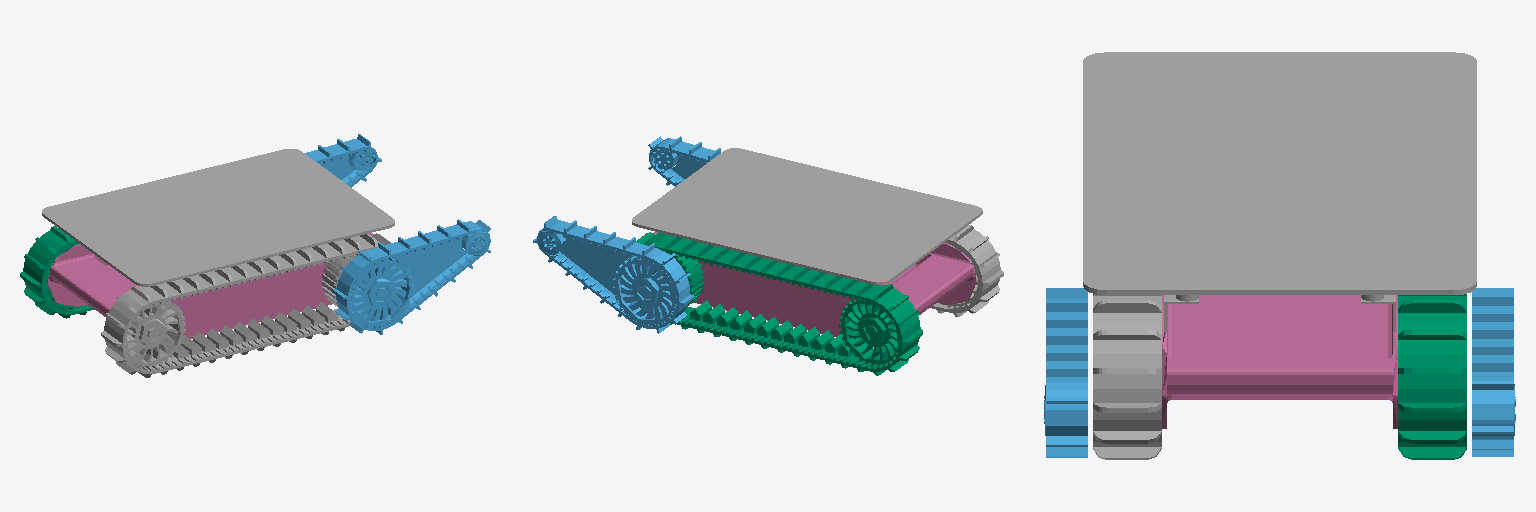
--- Render facts (derived) ---
3 views of the same robot in one strip: view 1: azimuth 30°, elevation 25°; view 2: azimuth 150°, elevation 25°; view 3: azimuth 270°, elevation 25° (orthographic).
Robot: GVR_Bot_RPLIDAR_Hector_Map_1 — 29 links, 28 joints (20 revolute, 8 fixed); root link base_link; default pose: all joints at 0.
Links seen in each view (by area): view 1: plexiglass_platform_0, gvr_bot_tread_5Z_0, gvr_bot_flipper_23Z_0, gvr_bot_body_0, gvr_bot_tread_10Z_0, gvr_bot_flipper_18Z_0; view 2: plexiglass_platform_0, gvr_bot_tread_10Z_0, gvr_bot_flipper_18Z_0, gvr_bot_body_0, gvr_bot_tread_5Z_0, gvr_bot_flipper_23Z_0; view 3: plexiglass_platform_0, gvr_bot_body_0, gvr_bot_tread_10Z_0, gvr_bot_tread_5Z_0, gvr_bot_flipper_23Z_0, gvr_bot_flipper_18Z_0.
Link boxes in pixels (x1,y1,x2,y2): plexiglass_platform_0: (42, 149, 394, 286); gvr_bot_tread_5Z_0: (101, 233, 399, 377); gvr_bot_flipper_23Z_0: (332, 219, 490, 334); gvr_bot_body_0: (47, 233, 373, 338); gvr_bot_tread_10Z_0: (20, 226, 94, 318); gvr_bot_flipper_18Z_0: (305, 134, 381, 187); plexiglass_platform_0: (632, 148, 982, 284); gvr_bot_tread_10Z_0: (636, 232, 922, 375); gvr_bot_flipper_18Z_0: (533, 216, 694, 333); gvr_bot_body_0: (653, 232, 976, 336); gvr_bot_tread_5Z_0: (930, 225, 1003, 316); gvr_bot_flipper_23Z_0: (648, 136, 720, 186); plexiglass_platform_0: (1083, 52, 1476, 332); gvr_bot_body_0: (1162, 295, 1397, 428); gvr_bot_tread_10Z_0: (1398, 294, 1466, 459); gvr_bot_tread_5Z_0: (1093, 294, 1161, 459); gvr_bot_flipper_23Z_0: (1044, 288, 1087, 457); gvr_bot_flipper_18Z_0: (1472, 288, 1515, 456).
Size in the robot's own frame: 0.8604 by 0.5081 by 0.2232 metres.
6 mesh visuals loaded from 7 distinct referenced files (6 binary STL); not drawn: 1 (reference not matched to a file when rendering).

robot.urdf — GVR_Bot_RPLIDAR_Hector_Map_1:
<?xml version="1.0" ?>
<robot name="GVR_Bot_RPLIDAR_Hector_Map_1">
  <joint name="base_link_to_gvr_bot_body_0" type="fixed">
    <parent link="base_link"/>
    <child link="gvr_bot_body_0"/>
  </joint>
  <joint name="gvr_bot_body_0_to_gvr_bot_flipper_18Z_0" type="fixed">
    <parent link="gvr_bot_body_0"/>
    <child link="gvr_bot_flipper_18Z_0"/>
    <origin rpy="1.93641940572 -4.62708953561e-14 1.57079632679" xyz="0.239 0.20706 0.0574455082287"/>
  </joint>
  <joint name="left3" type="revolute">
    <parent link="gvr_bot_flipper_18Z_0"/>
    <child link="rotational_cylinder_17Z_0"/>
    <origin rpy="-1.57079632679 0.943373860071 -1.57079632679" xyz="-1.42948459957e-16 0.0467498321858 0.0644670235538"/>
    <axis xyz="2.67239868192e-14 5.42395807345e-14 1.0"/>
    <dynamics damping="0" friction="0"/>
    <limit effort="200" lower="-2.14e9" upper="+2.14e9" velocity="100"/>
  </joint>
  <gazebo reference="left3">
    <implicitSpringDamper>True</implicitSpringDamper>
  </gazebo>
  <joint name="left2" type="revolute">
    <parent link="gvr_bot_flipper_18Z_0"/>
    <child link="rotational_cylinder_15Z_0"/>
    <origin rpy="-1.57079632679 0.943373860071 -1.57079632679" xyz="-1.83632318499e-15 0.0937159856132 0.129232349496"/>
    <axis xyz="2.1233334186e-14 5.27683647955e-14 1.0"/>
    <dynamics damping="0" friction="0"/>
    <limit effort="200" lower="-2.14e9" upper="+2.14e9" velocity="100"/>
  </joint>
  <gazebo reference="left2">
    <implicitSpringDamper>True</implicitSpringDamper>
  </gazebo>
  <joint name="left4" type="revolute">
    <parent link="gvr_bot_flipper_18Z_0"/>
    <child link="rotational_cylinder_19Z_0"/>
    <origin rpy="-1.57079632679 0.943373860071 -1.57079632679" xyz="1.56319401867e-15 1.30332441096e-15 3.83606282885e-16"/>
    <axis xyz="2.10494321936e-14 5.34546963746e-14 1.0"/>
    <dynamics damping="0" friction="0"/>
    <limit effort="200" lower="-2.14e9" upper="+2.14e9" velocity="100"/>
  </joint>
  <gazebo reference="left4">
    <implicitSpringDamper>True</implicitSpringDamper>
  </gazebo>
  <joint name="left1" type="revolute">
    <parent link="gvr_bot_flipper_18Z_0"/>
    <child link="rotational_cylinder_16Z_0"/>
    <origin rpy="-1.57079632679 0.943373860071 -1.57079632679" xyz="-3.40185110086e-15 0.13695163932 0.188853395724"/>
    <axis xyz="4.16719145039e-14 1.08266207812e-13 1.0"/>
    <dynamics damping="0" friction="0"/>
    <limit effort="200" lower="-2.14e9" upper="+2.14e9" velocity="100"/>
  </joint>
  <gazebo reference="left1">
    <implicitSpringDamper>True</implicitSpringDamper>
  </gazebo>
  <joint name="gvr_bot_body_0_to_gvr_bot_flipper_23Z_0" type="fixed">
    <parent link="gvr_bot_body_0"/>
    <child link="gvr_bot_flipper_23Z_0"/>
    <origin rpy="-0.681574472272 5.72650988307e-14 -1.57079632679" xyz="0.239 -0.20706 0.0574455082287"/>
  </joint>
  <joint name="right4" type="revolute">
    <parent link="gvr_bot_flipper_23Z_0"/>
    <child link="rotational_cylinder_22Z_0"/>
    <origin rpy="1.57079632679 0.943373860071 -1.57079632679" xyz="5.17275111633e-15 9.51947774283e-16 -9.47842953022e-16"/>
    <axis xyz="-2.28812763046e-14 5.25930858396e-14 1.0"/>
    <dynamics damping="0" friction="0"/>
    <limit effort="200" lower="-2.14e9" upper="+2.14e9" velocity="100"/>
  </joint>
  <gazebo reference="right4">
    <implicitSpringDamper>True</implicitSpringDamper>
  </gazebo>
  <joint name="right3" type="revolute">
    <parent link="gvr_bot_flipper_23Z_0"/>
    <child link="rotational_cylinder_24Z_0"/>
    <origin rpy="1.57079632679 0.943373860071 -1.57079632679" xyz="3.46428265799e-15 0.0467498321858 0.0644670235538"/>
    <axis xyz="-2.05037539727e-14 5.47013569674e-14 1.0"/>
    <dynamics damping="0" friction="0"/>
    <limit effort="200" lower="-2.14e9" upper="+2.14e9" velocity="100"/>
  </joint>
  <gazebo reference="right3">
    <implicitSpringDamper>True</implicitSpringDamper>
  </gazebo>
  <joint name="right2" type="revolute">
    <parent link="gvr_bot_flipper_23Z_0"/>
    <child link="rotational_cylinder_20Z_0"/>
    <origin rpy="1.57079632679 0.943373860071 -1.57079632679" xyz="1.78712941076e-15 0.0937159856132 0.129232349496"/>
    <axis xyz="-2.56266026212e-14 5.18574778701e-14 1.0"/>
    <dynamics damping="0" friction="0"/>
    <limit effort="200" lower="-2.14e9" upper="+2.14e9" velocity="100"/>
  </joint>
  <gazebo reference="right2">
    <implicitSpringDamper>True</implicitSpringDamper>
  </gazebo>
  <joint name="right1" type="revolute">
    <parent link="gvr_bot_flipper_23Z_0"/>
    <child link="rotational_cylinder_21Z_0"/>
    <origin rpy="1.57079632679 0.943373860071 -1.57079632679" xyz="2.09154302387e-16 0.13695163932 0.188853395724"/>
    <axis xyz="-3.96031540416e-14 1.04018677886e-13 1.0"/>
    <dynamics damping="0" friction="0"/>
    <limit effort="200" lower="-2.14e9" upper="+2.14e9" velocity="100"/>
  </joint>
  <gazebo reference="right1">
    <implicitSpringDamper>True</implicitSpringDamper>
  </gazebo>
  <joint name="gvr_bot_body_0_to_gvr_bot_tread_5Z_0" type="fixed">
    <parent link="gvr_bot_body_0"/>
    <child link="gvr_bot_tread_5Z_0"/>
    <origin rpy="1.57079632679 -0.0 -1.57079632679" xyz="-0.01 -0.12706 0.0625"/>
  </joint>
  <joint name="right10" type="revolute">
    <parent link="gvr_bot_tread_5Z_0"/>
    <child link="rotational_cylinder_2Z_0"/>
    <origin rpy="-1.22464679915e-16 -1.57079632679 0.0" xyz="-1.42108547152e-17 -0.005 0.249998846352"/>
    <axis xyz="6.12323399574e-17 -1.22464679915e-16 1.0"/>
    <dynamics damping="0" friction="0"/>
    <limit effort="200" lower="-2.14e9" upper="+2.14e9" velocity="100"/>
  </joint>
  <gazebo reference="right10">
    <implicitSpringDamper>True</implicitSpringDamper>
  </gazebo>
  <joint name="right6" type="revolute">
    <parent link="gvr_bot_tread_5Z_0"/>
    <child link="rotational_cylinder_4Z_0"/>
    <origin rpy="-3.14159265359 1.57079632679 0.0" xyz="-1.42108547152e-17 -0.005 -0.1"/>
    <axis xyz="-6.12323399574e-17 1.22464679915e-16 1.0"/>
    <dynamics damping="0" friction="0"/>
    <limit effort="200" lower="-2.14e9" upper="+2.14e9" velocity="100"/>
  </joint>
  <gazebo reference="right6">
    <implicitSpringDamper>True</implicitSpringDamper>
  </gazebo>
  <joint name="right8" type="revolute">
    <parent link="gvr_bot_tread_5Z_0"/>
    <child link="rotational_cylinder_7Z_0"/>
    <origin rpy="-3.14159265359 1.57079632679 0.0" xyz="-1.42108547152e-17 -0.01 8.70163887006e-34"/>
    <axis xyz="-6.12323399574e-17 1.22464679915e-16 1.0"/>
    <dynamics damping="0" friction="0"/>
    <limit effort="200" lower="-2.14e9" upper="+2.14e9" velocity="100"/>
  </joint>
  <gazebo reference="right8">
    <implicitSpringDamper>True</implicitSpringDamper>
  </gazebo>
  <joint name="right7" type="revolute">
    <parent link="gvr_bot_tread_5Z_0"/>
    <child link="rotational_cylinder_3Z_0"/>
    <origin rpy="-3.14159265359 1.57079632679 0.0" xyz="-1.42108547152e-17 0.0 8.70163887006e-34"/>
    <axis xyz="-6.12323399574e-17 1.22464679915e-16 1.0"/>
    <dynamics damping="0" friction="0"/>
    <limit effort="200" lower="-2.14e9" upper="+2.14e9" velocity="100"/>
  </joint>
  <gazebo reference="right7">
    <implicitSpringDamper>True</implicitSpringDamper>
  </gazebo>
  <joint name="right5" type="revolute">
    <parent link="gvr_bot_tread_5Z_0"/>
    <child link="rotational_cylinder_1Z_0"/>
    <origin rpy="-1.22464679915e-16 -1.57079632679 0.0" xyz="-1.42108547152e-17 -0.005 -0.250000787001"/>
    <axis xyz="6.12323399574e-17 -1.22464679915e-16 1.0"/>
    <dynamics damping="0" friction="0"/>
    <limit effort="200" lower="-2.14e9" upper="+2.14e9" velocity="100"/>
  </joint>
  <gazebo reference="right5">
    <implicitSpringDamper>True</implicitSpringDamper>
  </gazebo>
  <joint name="right9" type="revolute">
    <parent link="gvr_bot_tread_5Z_0"/>
    <child link="rotational_cylinder_6Z_0"/>
    <origin rpy="-3.14159265359 1.57079632679 0.0" xyz="-1.42108547152e-17 -0.005 0.1"/>
    <axis xyz="-6.12323399574e-17 1.22464679915e-16 1.0"/>
    <dynamics damping="0" friction="0"/>
    <limit effort="200" lower="-2.14e9" upper="+2.14e9" velocity="100"/>
  </joint>
  <gazebo reference="right9">
    <implicitSpringDamper>True</implicitSpringDamper>
  </gazebo>
  <joint name="gvr_bot_body_0_to_gvr_bot_tread_10Z_0" type="fixed">
    <parent link="gvr_bot_body_0"/>
    <child link="gvr_bot_tread_10Z_0"/>
    <origin rpy="1.57079632679 -0.0 1.57079632679" xyz="-0.01 0.12706 0.0625"/>
  </joint>
  <joint name="left5" type="revolute">
    <parent link="gvr_bot_tread_10Z_0"/>
    <child link="rotational_cylinder_14Z_0"/>
    <origin rpy="-3.14159265359 -1.57079632679 0.0" xyz="-1.42108547152e-17 -0.005 0.249998846352"/>
    <axis xyz="-6.12323399574e-17 -3.74939945665e-33 1.0"/>
    <dynamics damping="0" friction="0"/>
    <limit effort="200" lower="-2.14e9" upper="+2.14e9" velocity="100"/>
  </joint>
  <gazebo reference="left5">
    <implicitSpringDamper>True</implicitSpringDamper>
  </gazebo>
  <joint name="left10" type="revolute">
    <parent link="gvr_bot_tread_10Z_0"/>
    <child link="rotational_cylinder_12Z_0"/>
    <origin rpy="-3.14159265359 -1.57079632679 0.0" xyz="-1.42108547152e-17 -0.005 -0.250000787001"/>
    <axis xyz="-6.12323399574e-17 -3.74939945665e-33 1.0"/>
    <dynamics damping="0" friction="0"/>
    <limit effort="200" lower="-2.14e9" upper="+2.14e9" velocity="100"/>
  </joint>
  <gazebo reference="left10">
    <implicitSpringDamper>True</implicitSpringDamper>
  </gazebo>
  <joint name="left6" type="revolute">
    <parent link="gvr_bot_tread_10Z_0"/>
    <child link="rotational_cylinder_8Z_0"/>
    <origin rpy="-3.14159265359 -1.57079632679 0.0" xyz="-1.42108547152e-17 -0.005 0.1"/>
    <axis xyz="-6.12323399574e-17 -3.74939945665e-33 1.0"/>
    <dynamics damping="0" friction="0"/>
    <limit effort="200" lower="-2.14e9" upper="+2.14e9" velocity="100"/>
  </joint>
  <gazebo reference="left6">
    <implicitSpringDamper>True</implicitSpringDamper>
  </gazebo>
  <joint name="left7" type="revolute">
    <parent link="gvr_bot_tread_10Z_0"/>
    <child link="rotational_cylinder_9Z_0"/>
    <origin rpy="-3.14159265359 -1.57079632679 0.0" xyz="-1.42108547152e-17 -0.01 8.70163887006e-34"/>
    <axis xyz="-6.12323399574e-17 -3.74939945665e-33 1.0"/>
    <dynamics damping="0" friction="0"/>
    <limit effort="200" lower="-2.14e9" upper="+2.14e9" velocity="100"/>
  </joint>
  <gazebo reference="left7">
    <implicitSpringDamper>True</implicitSpringDamper>
  </gazebo>
  <joint name="left8" type="revolute">
    <parent link="gvr_bot_tread_10Z_0"/>
    <child link="rotational_cylinder_11Z_0"/>
    <origin rpy="-3.14159265359 -1.57079632679 0.0" xyz="-1.42108547152e-17 0.0 8.70163887006e-34"/>
    <axis xyz="-6.12323399574e-17 -3.74939945665e-33 1.0"/>
    <dynamics damping="0" friction="0"/>
    <limit effort="200" lower="-2.14e9" upper="+2.14e9" velocity="100"/>
  </joint>
  <gazebo reference="left8">
    <implicitSpringDamper>True</implicitSpringDamper>
  </gazebo>
  <joint name="left9" type="revolute">
    <parent link="gvr_bot_tread_10Z_0"/>
    <child link="rotational_cylinder_13Z_0"/>
    <origin rpy="-3.14159265359 -1.57079632679 0.0" xyz="-1.42108547152e-17 -0.005 -0.1"/>
    <axis xyz="-6.12323399574e-17 -3.74939945665e-33 1.0"/>
    <dynamics damping="0" friction="0"/>
    <limit effort="200" lower="-2.14e9" upper="+2.14e9" velocity="100"/>
  </joint>
  <gazebo reference="left9">
    <implicitSpringDamper>True</implicitSpringDamper>
  </gazebo>
  <joint name="gvr_bot_body_0_to_plexiglass_platform_0" type="fixed">
    <parent link="gvr_bot_body_0"/>
    <child link="plexiglass_platform_0"/>
    <origin rpy="0.0 -6.12323399574e-17 0.0" xyz="1e-23 1e-23 0.12"/>
  </joint>
  <joint name="plexiglass_platform_0_to_rplidar_a2_0" type="fixed">
    <parent link="plexiglass_platform_0"/>
    <child link="rplidar_a2_0"/>
    <origin rpy="6.12323399574e-17 -0.0 1.57079632679" xyz="0.26 -2.6645452591e-18 0.066"/>
  </joint>
  <link name="base_link">
    <CyPhy2CAD>
      <CADAssembly_metrics>
        <RotationMatrix>
          <Row>
            <Column Value="1.0"/>
            <Column Value="0.0"/>
            <Column Value="0.0"/>
          </Row>
          <Row>
            <Column Value="0.0"/>
            <Column Value="1.0"/>
            <Column Value="0.0"/>
          </Row>
          <Row>
            <Column Value="0.0"/>
            <Column Value="0.0"/>
            <Column Value="1.0"/>
          </Row>
        </RotationMatrix>
        <Translation X="1e-20" Y="1e-20" Z="1e-20"/>
      </CADAssembly_metrics>
    </CyPhy2CAD>
  </link>
  <link name="gvr_bot_flipper_23Z_0">
    <visual>
      <origin rpy="0 0 0" xyz="0.0237972102461 -0.00201595867467 -0.000117379872234"/>
      <geometry>
        <mesh filename="package://gvr_bot_rplidar_hector_map_generated_urdf_2019_5_10t16_55_19/meshes/gvr_bot_flipper_23z_prt.stl" scale="0.001 0.001 0.001"/>
      </geometry>
    </visual>
    <collision>
      <origin rpy="0 0 0" xyz="0.0237972102461 -0.00201595867467 -0.000117379872234"/>
      <geometry>
        <box size="0.01 0.01 0.01"/>
      </geometry>
    </collision>
    <inertial>
      <origin rpy="0 0 0" xyz="0.0234187179527 0.0315726270595 0.0435260789695"/>
      <mass value="0.001"/>
      <inertia ixx="1.66e-8" ixy="0" ixz="0" iyy="1.66e-8" iyz="0" izz="1.66e-8"/>
    </inertial>
  </link>
  <gazebo reference="gvr_bot_flipper_23Z_0">
    <selfCollide>true</selfCollide>
    <material>Gazebo/Black</material>
    <mu1>0.1</mu1>
    <mu2>0.1</mu2>
    <kp>1000000</kp>
    <kd>1</kd>
    <minDepth>0.001</minDepth>
    <maxVel>100</maxVel>
  </gazebo>
  <link name="gvr_bot_tread_10Z_0">
    <visual>
      <origin rpy="0 0 0" xyz="-1.42108547152e-17 0.0 0.00687141668333"/>
      <geometry>
        <mesh filename="package://gvr_bot_rplidar_hector_map_generated_urdf_2019_5_10t16_55_19/meshes/gvr_bot_tread_10z_prt.stl" scale="0.001 0.001 0.001"/>
      </geometry>
    </visual>
    <collision>
      <origin rpy="0 0 0" xyz="-1.42108547152e-17 0.0 0.00687141668333"/>
      <geometry>
        <box size="0.01 0.01 0.01"/>
      </geometry>
    </collision>
    <inertial>
      <origin rpy="0 0 0" xyz="0.0343748145549 -0.0143580795047 -0.000521482183074"/>
      <mass value="0.001"/>
      <inertia ixx="1.66e-8" ixy="0" ixz="0" iyy="1.66e-8" iyz="0" izz="1.66e-8"/>
    </inertial>
  </link>
  <gazebo reference="gvr_bot_tread_10Z_0">
    <selfCollide>true</selfCollide>
    <material>Gazebo/Black</material>
    <mu1>0.1</mu1>
    <mu2>0.1</mu2>
    <kp>1000000</kp>
    <kd>1</kd>
    <minDepth>0.001</minDepth>
    <maxVel>100</maxVel>
  </gazebo>
  <link name="rotational_cylinder_4Z_0">
    <collision>
      <origin rpy="0 0 0" xyz="0.0 0.0 -0.04125"/>
      <geometry>
        <cylinder length="0.0825" radius="0.085"/>
      </geometry>
    </collision>
    <inertial>
      <origin rpy="0 0 0" xyz="0.0 0.0 -0.04125"/>
      <mass value="0.09999606949569155"/>
      <inertia ixx="0.00023733442692" ixy="0.0" ixz="0.0" iyy="0.000237334415467" iyz="0.0" izz="0.000361235801053"/>
    </inertial>
  </link>
  <gazebo reference="rotational_cylinder_4Z_0">
    <selfCollide>False</selfCollide>
    <material>Gazebo/Grey</material>
    <mu1>10</mu1>
    <mu2>10</mu2>
    <kp>1e+08</kp>
    <kd>1</kd>
    <minDepth>0.001</minDepth>
    <maxVel>1</maxVel>
  </gazebo>
  <link name="rplidar_a2_0">
    <visual>
      <origin rpy="0 0 0" xyz="4.4408920985e-18 0.0 0.0"/>
      <geometry>
        <mesh filename="package://gvr_bot_rplidar_hector_map_generated_urdf_2019_5_10t16_55_19/meshes/rplidar_a2_asm.stl" scale="0.001 0.001 0.001"/>
      </geometry>
    </visual>
    <collision>
      <origin rpy="0 0 0" xyz="4.4408920985e-18 0.0 0.0"/>
      <geometry>
        <mesh filename="package://gvr_bot_rplidar_hector_map_generated_urdf_2019_5_10t16_55_19/meshes/rplidar_a2_asm.stl" scale="0.001 0.001 0.001"/>
      </geometry>
    </collision>
    <inertial>
      <origin rpy="0 0 0" xyz="-0.000130340672722 -0.00136533102019 0.0205166626404"/>
      <mass value="0.18821621589950202"/>
      <inertia ixx="8.13361235458e-05" ixy="-2.24566593777e-07" ixz="7.5260897031e-09" iyy="7.83925013627e-05" iyz="2.44355055998e-06" izz="0.000134676697915"/>
    </inertial>
  </link>
  <gazebo reference="rplidar_a2_0">
    <selfCollide>True</selfCollide>
    <material>Gazebo/Black</material>
    <mu1>0.05</mu1>
    <mu2>0.05</mu2>
    <kp>10000000</kp>
    <kd>1</kd>
    <minDepth>0.0005</minDepth>
    <maxVel>100</maxVel>
  </gazebo>
  <link name="rotational_cylinder_1Z_0">
    <collision>
      <origin rpy="0 0 0" xyz="-8.70163887006e-34 1.74032777401e-33 -0.04125"/>
      <geometry>
        <cylinder length="0.0825" radius="0.085"/>
      </geometry>
    </collision>
    <inertial>
      <origin rpy="0 0 0" xyz="-8.70163887006e-34 1.74032777401e-33 -0.04125"/>
      <mass value="0.09999606949569155"/>
      <inertia ixx="0.00023733442692" ixy="0.0" ixz="0.0" iyy="0.000237334415467" iyz="0.0" izz="0.000361235801053"/>
    </inertial>
  </link>
  <gazebo reference="rotational_cylinder_1Z_0">
    <selfCollide>False</selfCollide>
    <material>Gazebo/Grey</material>
    <mu1>10</mu1>
    <mu2>10</mu2>
    <kp>1e+08</kp>
    <kd>1</kd>
    <minDepth>0.001</minDepth>
    <maxVel>1</maxVel>
  </gazebo>
  <link name="rotational_cylinder_6Z_0">
    <collision>
      <origin rpy="0 0 0" xyz="0.0 0.0 -0.04125"/>
      <geometry>
        <cylinder length="0.0825" radius="0.085"/>
      </geometry>
    </collision>
    <inertial>
      <origin rpy="0 0 0" xyz="0.0 0.0 -0.04125"/>
      <mass value="0.09999606949569155"/>
      <inertia ixx="0.00023733442692" ixy="0.0" ixz="0.0" iyy="0.000237334415467" iyz="0.0" izz="0.000361235801053"/>
    </inertial>
  </link>
  <gazebo reference="rotational_cylinder_6Z_0">
    <selfCollide>False</selfCollide>
    <material>Gazebo/Grey</material>
    <mu1>10</mu1>
    <mu2>10</mu2>
    <kp>1e+08</kp>
    <kd>1</kd>
    <minDepth>0.001</minDepth>
    <maxVel>1</maxVel>
  </gazebo>
  <link name="gvr_bot_tread_5Z_0">
    <visual>
      <origin rpy="0 0 0" xyz="-1.42108547152e-17 0.0 0.00687141668333"/>
      <geometry>
        <mesh filename="package://gvr_bot_rplidar_hector_map_generated_urdf_2019_5_10t16_55_19/meshes/gvr_bot_tread_5z_prt.stl" scale="0.001 0.001 0.001"/>
      </geometry>
    </visual>
    <collision>
      <origin rpy="0 0 0" xyz="-1.42108547152e-17 0.0 0.00687141668333"/>
      <geometry>
        <box size="0.01 0.01 0.01"/>
      </geometry>
    </collision>
    <inertial>
      <origin rpy="0 0 0" xyz="0.0343748145549 -0.0143580795047 -0.000521482183074"/>
      <mass value="0.001"/>
      <inertia ixx="1.66e-8" ixy="0" ixz="0" iyy="1.66e-8" iyz="0" izz="1.66e-8"/>
    </inertial>
  </link>
  <gazebo reference="gvr_bot_tread_5Z_0">
    <selfCollide>true</selfCollide>
    <material>Gazebo/Black</material>
    <mu1>0.1</mu1>
    <mu2>0.1</mu2>
    <kp>1000000</kp>
    <kd>1</kd>
    <minDepth>0.001</minDepth>
    <maxVel>100</maxVel>
  </gazebo>
  <link name="rotational_cylinder_20Z_0">
    <collision>
      <origin rpy="0 0 0" xyz="5.20207006246e-17 -6.33396108434e-16 -0.025"/>
      <geometry>
        <cylinder length="0.05" radius="0.05"/>
      </geometry>
    </collision>
    <inertial>
      <origin rpy="0 0 0" xyz="5.20207006246e-17 -6.33396108434e-16 -0.025"/>
      <mass value="0.020970130962711872"/>
      <inertia ixx="1.74751095511e-05" ixy="0.0" ixz="0.0" iyy="1.74751087201e-05" iyz="0.0" izz="2.62126637034e-05"/>
    </inertial>
  </link>
  <gazebo reference="rotational_cylinder_20Z_0">
    <selfCollide>False</selfCollide>
    <material>Gazebo/Grey</material>
    <mu1>10</mu1>
    <mu2>10</mu2>
    <kp>1e+08</kp>
    <kd>1</kd>
    <minDepth>0.001</minDepth>
    <maxVel>1</maxVel>
  </gazebo>
  <link name="gvr_bot_flipper_18Z_0">
    <visual>
      <origin rpy="0 0 0" xyz="0.0237972102461 -0.00201595867467 -0.000117379872232"/>
      <geometry>
        <mesh filename="package://gvr_bot_rplidar_hector_map_generated_urdf_2019_5_10t16_55_19/meshes/gvr_bot_flipper_18z_prt.stl" scale="0.001 0.001 0.001"/>
      </geometry>
    </visual>
    <collision>
      <origin rpy="0 0 0" xyz="0.0237972102461 -0.00201595867467 -0.000117379872232"/>
      <geometry>
        <box size="0.01 0.01 0.01"/>
      </geometry>
    </collision>
    <inertial>
      <origin rpy="0 0 0" xyz="0.0234187179527 0.0315726270595 0.0435260789695"/>
      <mass value="0.001"/>
      <inertia ixx="1.66e-8" ixy="0" ixz="0" iyy="1.66e-8" iyz="0" izz="1.66e-8"/>
    </inertial>
  </link>
  <gazebo reference="gvr_bot_flipper_18Z_0">
    <selfCollide>true</selfCollide>
    <material>Gazebo/Black</material>
    <mu1>0.1</mu1>
    <mu2>0.1</mu2>
    <kp>1000000</kp>
    <kd>1</kd>
    <minDepth>0.001</minDepth>
    <maxVel>100</maxVel>
  </gazebo>
  <link name="rotational_cylinder_13Z_0">
    <collision>
      <origin rpy="0 0 0" xyz="0.0 0.0 0.04125"/>
      <geometry>
        <cylinder length="0.0825" radius="0.085"/>
      </geometry>
    </collision>
    <inertial>
      <origin rpy="0 0 0" xyz="0.0 0.0 0.04125"/>
      <mass value="0.09999606949569155"/>
      <inertia ixx="0.00023733442692" ixy="0.0" ixz="0.0" iyy="0.000237334415467" iyz="0.0" izz="0.000361235801053"/>
    </inertial>
  </link>
  <gazebo reference="rotational_cylinder_13Z_0">
    <selfCollide>False</selfCollide>
    <material>Gazebo/Grey</material>
    <mu1>10</mu1>
    <mu2>10</mu2>
    <kp>1e+08</kp>
    <kd>1</kd>
    <minDepth>0.001</minDepth>
    <maxVel>1</maxVel>
  </gazebo>
  <link name="rotational_cylinder_14Z_0">
    <collision>
      <origin rpy="0 0 0" xyz="8.70163887006e-34 5.32821709478e-50 0.04125"/>
      <geometry>
        <cylinder length="0.0825" radius="0.085"/>
      </geometry>
    </collision>
    <inertial>
      <origin rpy="0 0 0" xyz="8.70163887006e-34 5.32821709478e-50 0.04125"/>
      <mass value="0.09999606949569155"/>
      <inertia ixx="0.00023733442692" ixy="0.0" ixz="0.0" iyy="0.000237334415467" iyz="0.0" izz="0.000361235801053"/>
    </inertial>
  </link>
  <gazebo reference="rotational_cylinder_14Z_0">
    <selfCollide>False</selfCollide>
    <material>Gazebo/Grey</material>
    <mu1>10</mu1>
    <mu2>10</mu2>
    <kp>1e+08</kp>
    <kd>1</kd>
    <minDepth>0.001</minDepth>
    <maxVel>1</maxVel>
  </gazebo>
  <link name="rotational_cylinder_2Z_0">
    <collision>
      <origin rpy="0 0 0" xyz="8.70163887006e-34 -1.74032777401e-33 -0.04125"/>
      <geometry>
        <cylinder length="0.0825" radius="0.085"/>
      </geometry>
    </collision>
    <inertial>
      <origin rpy="0 0 0" xyz="8.70163887006e-34 -1.74032777401e-33 -0.04125"/>
      <mass value="0.09999606949569155"/>
      <inertia ixx="0.00023733442692" ixy="0.0" ixz="0.0" iyy="0.000237334415467" iyz="0.0" izz="0.000361235801053"/>
    </inertial>
  </link>
  <gazebo reference="rotational_cylinder_2Z_0">
    <selfCollide>False</selfCollide>
    <material>Gazebo/Grey</material>
    <mu1>10</mu1>
    <mu2>10</mu2>
    <kp>1e+08</kp>
    <kd>1</kd>
    <minDepth>0.001</minDepth>
    <maxVel>1</maxVel>
  </gazebo>
  <link name="rotational_cylinder_9Z_0">
    <collision>
      <origin rpy="0 0 0" xyz="0.0 0.0 0.04125"/>
      <geometry>
        <cylinder length="0.0825" radius="0.085"/>
      </geometry>
    </collision>
    <inertial>
      <origin rpy="0 0 0" xyz="0.0 0.0 0.04125"/>
      <mass value="0.09999606949569155"/>
      <inertia ixx="0.00023733442692" ixy="0.0" ixz="0.0" iyy="0.000237334415467" iyz="0.0" izz="0.000361235801053"/>
    </inertial>
  </link>
  <gazebo reference="rotational_cylinder_9Z_0">
    <selfCollide>False</selfCollide>
    <material>Gazebo/Grey</material>
    <mu1>10</mu1>
    <mu2>10</mu2>
    <kp>1e+08</kp>
    <kd>1</kd>
    <minDepth>0.001</minDepth>
    <maxVel>1</maxVel>
  </gazebo>
  <link name="gvr_bot_body_0">
    <visual>
      <origin rpy="0 0 0" xyz="1e-23 1e-23 1e-23"/>
      <geometry>
        <mesh filename="package://gvr_bot_rplidar_hector_map_generated_urdf_2019_5_10t16_55_19/meshes/gvr_bot_body_prt.stl" scale="0.001 0.001 0.001"/>
      </geometry>
    </visual>
    <collision>
      <origin rpy="0 0 0" xyz="1e-23 1e-23 1e-23"/>
      <geometry>
        <mesh filename="package://gvr_bot_rplidar_hector_map_generated_urdf_2019_5_10t16_55_19/meshes/gvr_bot_body_prt.stl" scale="0.001 0.001 0.001"/>
      </geometry>
    </collision>
    <inertial>
      <origin rpy="0 0 0" xyz="0.0162648644683 1e-23 0.0508416849457"/>
      <mass value="25.048697501394287"/>
      <inertia ixx="0.162838436291" ixy="0.0" ixz="-0.0134083347617" iyy="0.743638566943" iyz="0.0" izz="0.865993591962"/>
    </inertial>
  </link>
  <gazebo reference="gvr_bot_body_0">
    <selfCollide>True</selfCollide>
    <material>Gazebo/Grey</material>
    <mu1>0.05</mu1>
    <mu2>0.05</mu2>
    <kp>10000000</kp>
    <kd>1</kd>
    <minDepth>0.0005</minDepth>
    <maxVel>100</maxVel>
  </gazebo>
  <link name="plexiglass_platform_0">
    <visual>
      <origin rpy="0 0 0" xyz="-0.0974742239804 0.00581091197438 0.0375579898642"/>
      <geometry>
        <mesh filename="package://gvr_bot_rplidar_hector_map_generated_urdf_2019_5_10t16_55_19/meshes/plexiglass_platform_prt.stl" scale="0.001 0.001 0.001"/>
      </geometry>
    </visual>
    <collision>
      <origin rpy="0 0 0" xyz="-0.0974742239804 0.00581091197438 0.0375579898642"/>
      <geometry>
        <mesh filename="package://gvr_bot_rplidar_hector_map_generated_urdf_2019_5_10t16_55_19/meshes/plexiglass_platform_prt.stl" scale="0.001 0.001 0.001"/>
      </geometry>
    </collision>
    <inertial>
      <origin rpy="0 0 0" xyz="0.00312874244791 4.23675569412e-06 0.0579997476994"/>
      <mass value="2.6640368579972415"/>
      <inertia ixx="0.0396059563947" ixy="0.0" ixz="0.00022940388755" iyy="0.0805502430789" iyz="0.0" izz="0.119329632902"/>
    </inertial>
  </link>
  <gazebo reference="plexiglass_platform_0">
    <selfCollide>True</selfCollide>
    <material>Gazebo/GreyTransparent</material>
    <mu1>0.05</mu1>
    <mu2>0.05</mu2>
    <kp>10000000</kp>
    <kd>1</kd>
    <minDepth>0</minDepth>
    <maxVel>100</maxVel>
  </gazebo>
  <link name="rotational_cylinder_12Z_0">
    <collision>
      <origin rpy="0 0 0" xyz="-8.70163887006e-34 -5.32821709478e-50 0.04125"/>
      <geometry>
        <cylinder length="0.0825" radius="0.085"/>
      </geometry>
    </collision>
    <inertial>
      <origin rpy="0 0 0" xyz="-8.70163887006e-34 -5.32821709478e-50 0.04125"/>
      <mass value="0.09999606949569155"/>
      <inertia ixx="0.00023733442692" ixy="0.0" ixz="0.0" iyy="0.000237334415467" iyz="0.0" izz="0.000361235801053"/>
    </inertial>
  </link>
  <gazebo reference="rotational_cylinder_12Z_0">
    <selfCollide>False</selfCollide>
    <material>Gazebo/Grey</material>
    <mu1>10</mu1>
    <mu2>10</mu2>
    <kp>1e+08</kp>
    <kd>1</kd>
    <minDepth>0.001</minDepth>
    <maxVel>1</maxVel>
  </gazebo>
  <link name="rotational_cylinder_8Z_0">
    <collision>
      <origin rpy="0 0 0" xyz="0.0 0.0 0.04125"/>
      <geometry>
        <cylinder length="0.0825" radius="0.085"/>
      </geometry>
    </collision>
    <inertial>
      <origin rpy="0 0 0" xyz="0.0 0.0 0.04125"/>
      <mass value="0.09999606949569155"/>
      <inertia ixx="0.00023733442692" ixy="0.0" ixz="0.0" iyy="0.000237334415467" iyz="0.0" izz="0.000361235801053"/>
    </inertial>
  </link>
  <gazebo reference="rotational_cylinder_8Z_0">
    <selfCollide>False</selfCollide>
    <material>Gazebo/Grey</material>
    <mu1>10</mu1>
    <mu2>10</mu2>
    <kp>1e+08</kp>
    <kd>1</kd>
    <minDepth>0.001</minDepth>
    <maxVel>1</maxVel>
  </gazebo>
  <link name="rotational_cylinder_16Z_0">
    <collision>
      <origin rpy="0 0 0" xyz="-4.87161526035e-16 1.5434930097e-14 0.025"/>
      <geometry>
        <cylinder length="0.05" radius="0.035"/>
      </geometry>
    </collision>
    <inertial>
      <origin rpy="0 0 0" xyz="-4.87161526035e-16 1.5434930097e-14 0.025"/>
      <mass value="0.010275364171728817"/>
      <inertia ixx="5.28752782089e-06" ixy="0.0" ixz="0.0" iyy="5.28753447251e-06" iyz="0.0" izz="6.29366055518e-06"/>
    </inertial>
  </link>
  <gazebo reference="rotational_cylinder_16Z_0">
    <selfCollide>False</selfCollide>
    <material>Gazebo/Grey</material>
    <mu1>0.1</mu1>
    <mu2>0.1</mu2>
    <kp>1e+08</kp>
    <kd>1</kd>
    <minDepth>0</minDepth>
    <maxVel>100</maxVel>
  </gazebo>
  <link name="rotational_cylinder_7Z_0">
    <collision>
      <origin rpy="0 0 0" xyz="0.0 0.0 -0.04125"/>
      <geometry>
        <cylinder length="0.0825" radius="0.085"/>
      </geometry>
    </collision>
    <inertial>
      <origin rpy="0 0 0" xyz="0.0 0.0 -0.04125"/>
      <mass value="0.09999606949569155"/>
      <inertia ixx="0.00023733442692" ixy="0.0" ixz="0.0" iyy="0.000237334415467" iyz="0.0" izz="0.000361235801053"/>
    </inertial>
  </link>
  <gazebo reference="rotational_cylinder_7Z_0">
    <selfCollide>False</selfCollide>
    <material>Gazebo/Grey</material>
    <mu1>10</mu1>
    <mu2>10</mu2>
    <kp>1e+08</kp>
    <kd>1</kd>
    <minDepth>0.001</minDepth>
    <maxVel>1</maxVel>
  </gazebo>
  <link name="rotational_cylinder_22Z_0">
    <collision>
      <origin rpy="0 0 0" xyz="1.94936111916e-16 -7.27511473902e-16 -0.025"/>
      <geometry>
        <cylinder length="0.05" radius="0.085"/>
      </geometry>
    </collision>
    <inertial>
      <origin rpy="0 0 0" xyz="1.94936111916e-16 -7.27511473902e-16 -0.025"/>
      <mass value="0.0606036784822373"/>
      <inertia ixx="0.000122091164079" ixy="0.0" ixz="0.0" iyy="0.000122091157139" iyz="0.0" izz="0.000218930788517"/>
    </inertial>
  </link>
  <gazebo reference="rotational_cylinder_22Z_0">
    <selfCollide>False</selfCollide>
    <material>Gazebo/Grey</material>
    <mu1>10</mu1>
    <mu2>10</mu2>
    <kp>1e+08</kp>
    <kd>1</kd>
    <minDepth>0.001</minDepth>
    <maxVel>1</maxVel>
  </gazebo>
  <link name="rotational_cylinder_19Z_0">
    <collision>
      <origin rpy="0 0 0" xyz="8.7651440623e-16 3.42739991492e-15 0.025"/>
      <geometry>
        <cylinder length="0.05" radius="0.085"/>
      </geometry>
    </collision>
    <inertial>
      <origin rpy="0 0 0" xyz="8.7651440623e-16 3.42739991492e-15 0.025"/>
      <mass value="0.0606036784822373"/>
      <inertia ixx="0.000122091164079" ixy="0.0" ixz="0.0" iyy="0.000122091157139" iyz="0.0" izz="0.000218930788517"/>
    </inertial>
  </link>
  <gazebo reference="rotational_cylinder_19Z_0">
    <selfCollide>False</selfCollide>
    <material>Gazebo/Grey</material>
    <mu1>10</mu1>
    <mu2>10</mu2>
    <kp>1e+08</kp>
    <kd>1</kd>
    <minDepth>0.001</minDepth>
    <maxVel>1</maxVel>
  </gazebo>
  <link name="rotational_cylinder_21Z_0">
    <collision>
      <origin rpy="0 0 0" xyz="-1.03720723699e-15 3.87091010642e-15 -0.025"/>
      <geometry>
        <cylinder length="0.05" radius="0.035"/>
      </geometry>
    </collision>
    <inertial>
      <origin rpy="0 0 0" xyz="-1.03720723699e-15 3.87091010642e-15 -0.025"/>
      <mass value="0.010275364171728817"/>
      <inertia ixx="5.28752782089e-06" ixy="0.0" ixz="0.0" iyy="5.28753447251e-06" iyz="0.0" izz="6.29366055518e-06"/>
    </inertial>
  </link>
  <gazebo reference="rotational_cylinder_21Z_0">
    <selfCollide>False</selfCollide>
    <material>Gazebo/Grey</material>
    <mu1>0.1</mu1>
    <mu2>0.1</mu2>
    <kp>1e+08</kp>
    <kd>1</kd>
    <minDepth>0</minDepth>
    <maxVel>100</maxVel>
  </gazebo>
  <link name="rotational_cylinder_11Z_0">
    <collision>
      <origin rpy="0 0 0" xyz="0.0 0.0 0.04125"/>
      <geometry>
        <cylinder length="0.0825" radius="0.085"/>
      </geometry>
    </collision>
    <inertial>
      <origin rpy="0 0 0" xyz="0.0 0.0 0.04125"/>
      <mass value="0.09999606949569155"/>
      <inertia ixx="0.00023733442692" ixy="0.0" ixz="0.0" iyy="0.000237334415467" iyz="0.0" izz="0.000361235801053"/>
    </inertial>
  </link>
  <gazebo reference="rotational_cylinder_11Z_0">
    <selfCollide>False</selfCollide>
    <material>Gazebo/Grey</material>
    <mu1>10</mu1>
    <mu2>10</mu2>
    <kp>1e+08</kp>
    <kd>1</kd>
    <minDepth>0.001</minDepth>
    <maxVel>1</maxVel>
  </gazebo>
  <link name="rotational_cylinder_15Z_0">
    <collision>
      <origin rpy="0 0 0" xyz="7.86534465657e-16 3.65339657213e-15 0.025"/>
      <geometry>
        <cylinder length="0.05" radius="0.05"/>
      </geometry>
    </collision>
    <inertial>
      <origin rpy="0 0 0" xyz="7.86534465657e-16 3.65339657213e-15 0.025"/>
      <mass value="0.020970130962711872"/>
      <inertia ixx="1.74751095511e-05" ixy="0.0" ixz="0.0" iyy="1.74751087201e-05" iyz="0.0" izz="2.62126637034e-05"/>
    </inertial>
  </link>
  <gazebo reference="rotational_cylinder_15Z_0">
    <selfCollide>False</selfCollide>
    <material>Gazebo/Grey</material>
    <mu1>10</mu1>
    <mu2>10</mu2>
    <kp>1e+08</kp>
    <kd>1</kd>
    <minDepth>0.001</minDepth>
    <maxVel>1</maxVel>
  </gazebo>
  <link name="rotational_cylinder_3Z_0">
    <collision>
      <origin rpy="0 0 0" xyz="8.70163887006e-34 -1.74032777401e-33 -0.04125"/>
      <geometry>
        <cylinder length="0.0825" radius="0.085"/>
      </geometry>
    </collision>
    <inertial>
      <origin rpy="0 0 0" xyz="8.70163887006e-34 -1.74032777401e-33 -0.04125"/>
      <mass value="0.09999606949569155"/>
      <inertia ixx="0.00023733442692" ixy="0.0" ixz="0.0" iyy="0.000237334415467" iyz="0.0" izz="0.000361235801053"/>
    </inertial>
  </link>
  <gazebo reference="rotational_cylinder_3Z_0">
    <selfCollide>False</selfCollide>
    <material>Gazebo/Grey</material>
    <mu1>10</mu1>
    <mu2>10</mu2>
    <kp>1e+08</kp>
    <kd>1</kd>
    <minDepth>0.001</minDepth>
    <maxVel>1</maxVel>
  </gazebo>
  <link name="rotational_cylinder_24Z_0">
    <collision>
      <origin rpy="0 0 0" xyz="3.23931577958e-16 -1.42855521244e-15 -0.025"/>
      <geometry>
        <cylinder length="0.05" radius="0.067"/>
      </geometry>
    </collision>
    <inertial>
      <origin rpy="0 0 0" xyz="3.23931577958e-16 -1.42855521244e-15 -0.025"/>
      <mass value="0.037653967156645436"/>
      <inertia ixx="5.01017424722e-05" ixy="0.0" ixz="0.0" iyy="5.01017397928e-05" iyz="0.0" izz="8.45143292831e-05"/>
    </inertial>
  </link>
  <gazebo reference="rotational_cylinder_24Z_0">
    <selfCollide>False</selfCollide>
    <material>Gazebo/Grey</material>
    <mu1>10</mu1>
    <mu2>10</mu2>
    <kp>1e+08</kp>
    <kd>1</kd>
    <minDepth>0.001</minDepth>
    <maxVel>1</maxVel>
  </gazebo>
  <link name="rotational_cylinder_17Z_0">
    <collision>
      <origin rpy="0 0 0" xyz="8.26728832599e-16 3.72301525785e-15 0.025"/>
      <geometry>
        <cylinder length="0.05" radius="0.067"/>
      </geometry>
    </collision>
    <inertial>
      <origin rpy="0 0 0" xyz="8.26728832599e-16 3.72301525785e-15 0.025"/>
      <mass value="0.037653967156645436"/>
      <inertia ixx="5.01017424722e-05" ixy="0.0" ixz="0.0" iyy="5.01017397928e-05" iyz="0.0" izz="8.45143292831e-05"/>
    </inertial>
  </link>
  <gazebo reference="rotational_cylinder_17Z_0">
    <selfCollide>False</selfCollide>
    <material>Gazebo/Grey</material>
    <mu1>10</mu1>
    <mu2>10</mu2>
    <kp>1e+08</kp>
    <kd>1</kd>
    <minDepth>0.001</minDepth>
    <maxVel>1</maxVel>
  </gazebo>
  <gazebo>
    <plugin filename="libdiffdrive_plugin_multi_wheel.so" name="diffdrive_plugin_multiwheel">
      <alwaysOn>true</alwaysOn>
      <updateRate>50.0</updateRate>
      <leftJoints>left1 left2 left3 left4 left5 left6 left7 left8 left9 left10</leftJoints>
      <rightJoints>right1 right2 right3 right4 right5 right6 right7 right8 right9 right10</rightJoints>
      <wheelSeparation>0.3</wheelSeparation>
      <wheelDiameter>0.07 0.1 0.124 0.17 0.17 0.17 0.17 0.17 0.17 0.17</wheelDiameter>
      <torque>1000</torque>
      <robotNamespace>/</robotNamespace>
      <robotBaseFrame>base_link</robotBaseFrame>
      <commandTopic>topic_6</commandTopic>
      <publishOdometryTf>false</publishOdometryTf>
      <publishOdometryMsg>false</publishOdometryMsg>
      <odometryTopic>odom</odometryTopic>
    </plugin>
  </gazebo>
  <joint name="rplidar_a2_0_to_scan" type="fixed">
    <parent link="rplidar_a2_0"/>
    <child link="rplidar_a2_0_scan"/>
    <origin rpy="0 0 0" xyz="0 0 0.03075"/>
  </joint>
  <link name="rplidar_a2_0_scan"/>
  <gazebo reference="rplidar_a2_0_scan">
    <sensor name="rplidar_a2_0_scan" type="gpu_ray">
      <pose>0 0 0 0 0 0</pose>
      <visualize>true</visualize>
      <update_rate>15</update_rate>
      <ray>
        <scan>
          <horizontal>
            <samples>720</samples>
            <resolution>1</resolution>
            <min_angle>-3.14159</min_angle>
            <max_angle>+3.14159</max_angle>
          </horizontal>
        </scan>
        <range>
          <min>0.04</min>
          <max>12.0</max>
          <resolution>0.002</resolution>
        </range>
        <noise>
          <type>gaussian</type>
          <mean>0.0</mean>
          <stddev>0.008</stddev>
        </noise>
      </ray>
      <plugin filename="libgazebo_ros_gpu_laser.so" name="gazebo_ros_laser_controller">
        <topicName>topic_5</topicName>
        <frameName>rplidar_a2_0_scan</frameName>
      </plugin>
    </sensor>
  </gazebo>
</robot>
